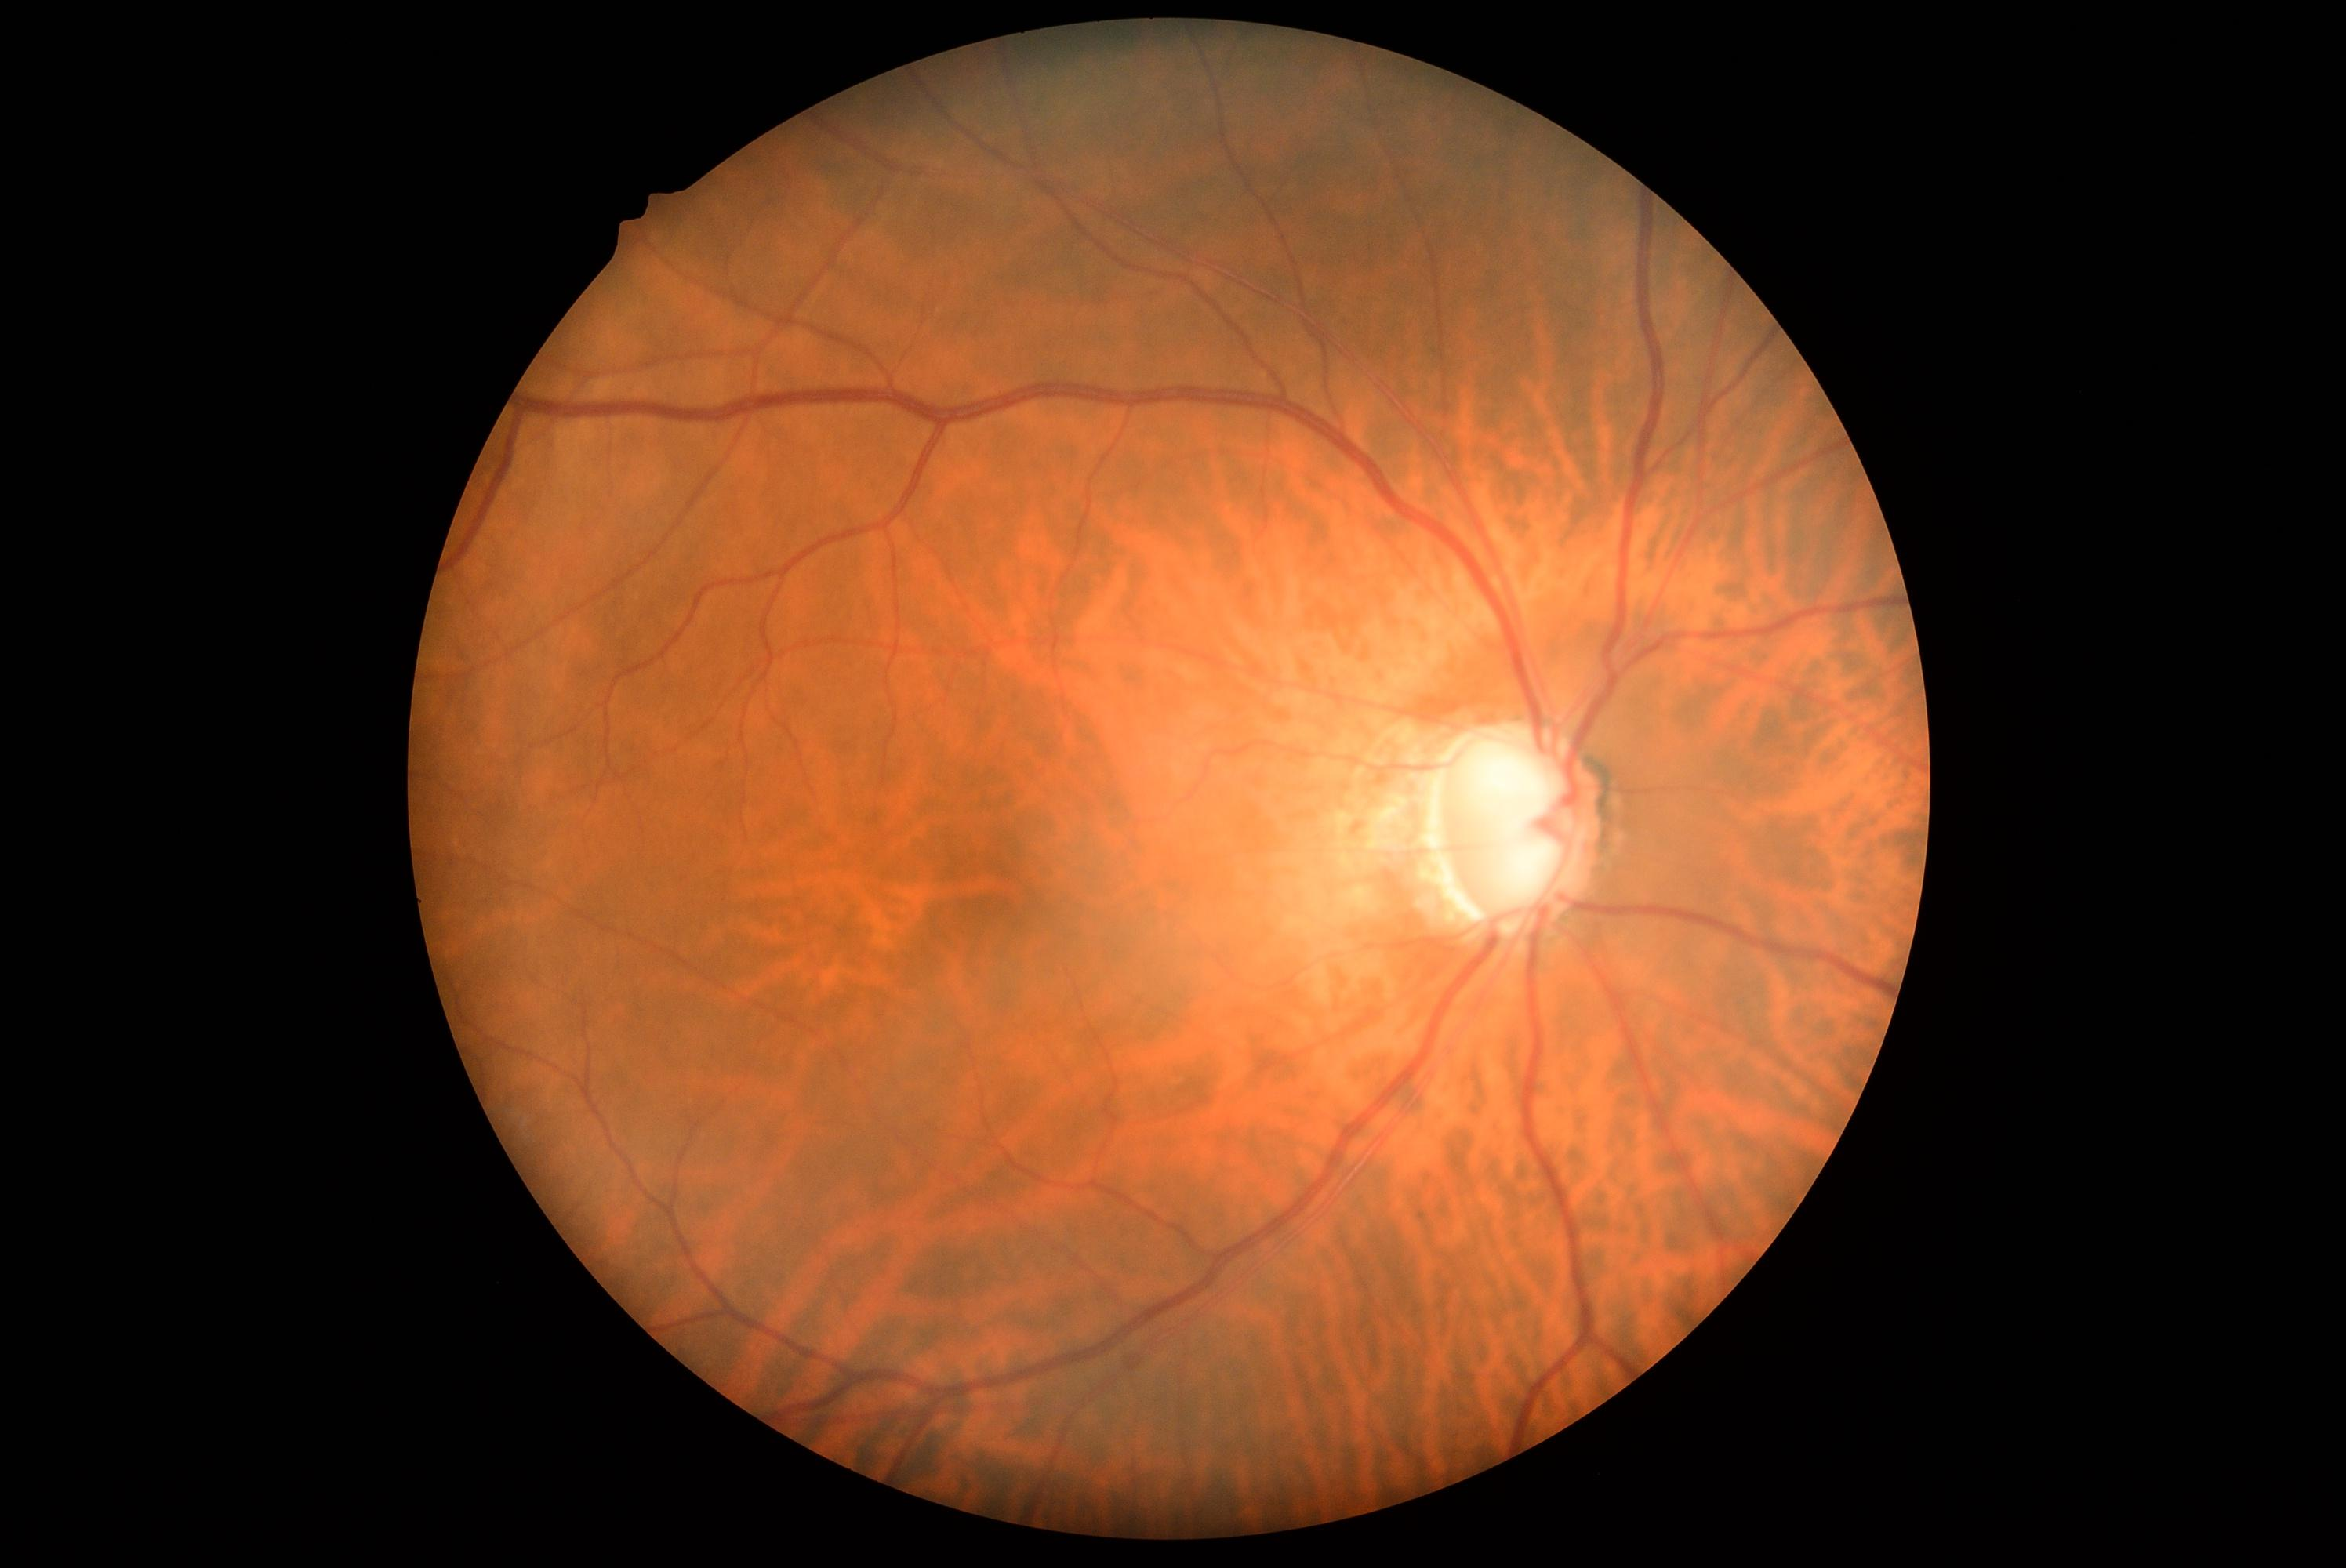Fovea: (915, 796, 1062, 941)
